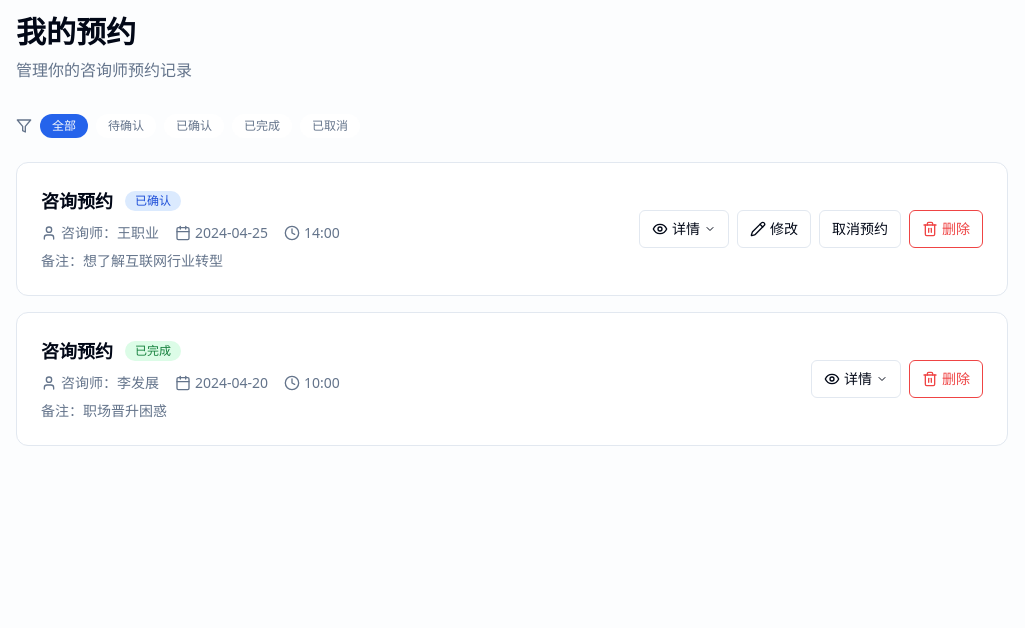
Appointments Page › hides appointment detail when clicking detail button again
Click the button "详情" in the row of "14:00": coordinates (684, 229) [639, 210, 729, 248]
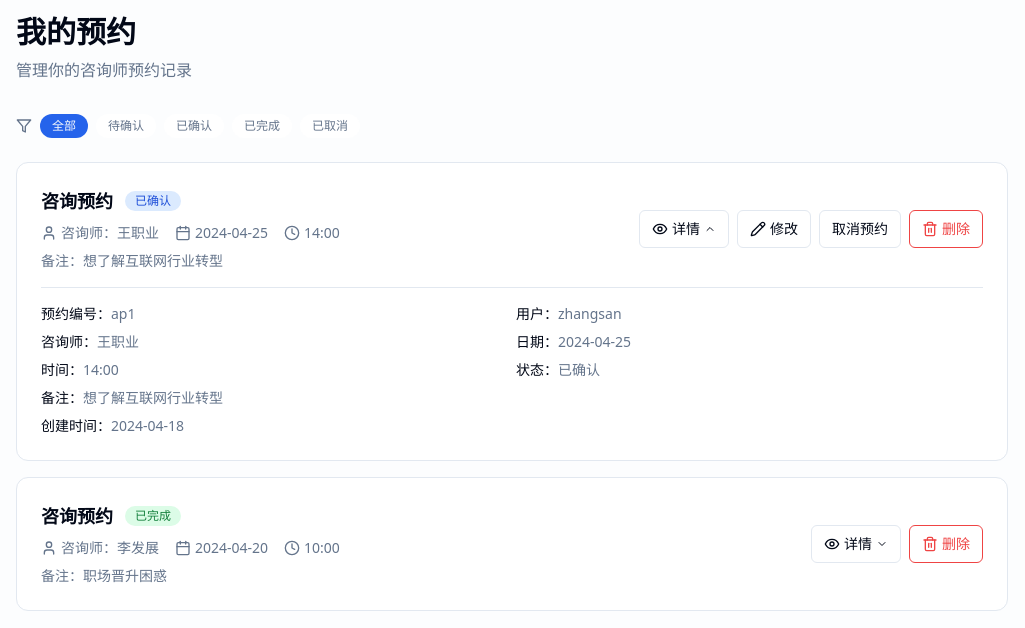
Now the text "预约编号：" is shown, box [41, 304, 111, 323]
Click the 1st button "详情": coordinates (684, 229) [639, 210, 729, 248]
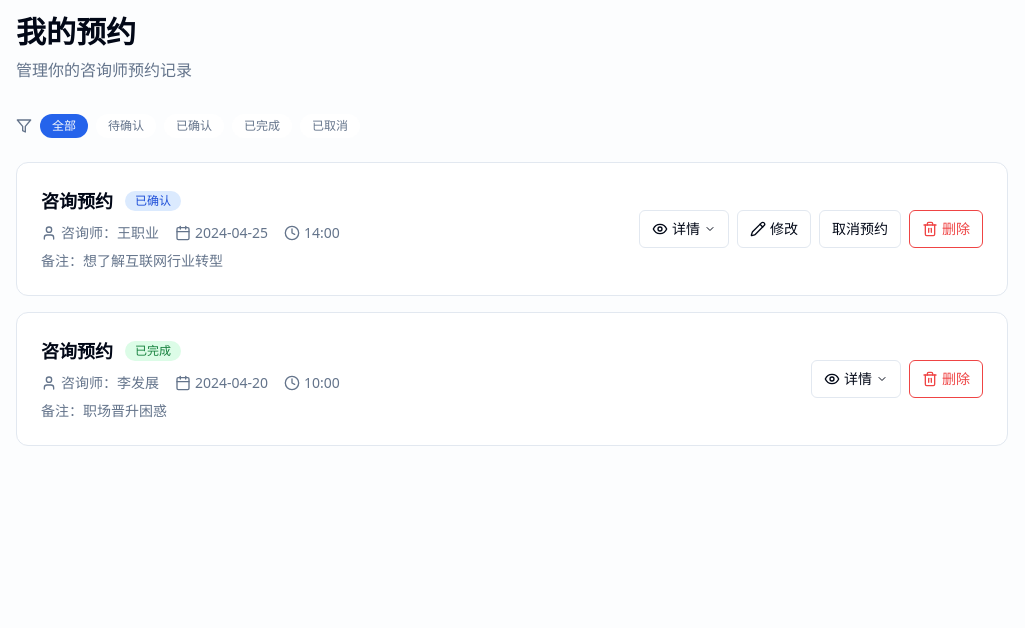
Now the text "预约编号：" is gone
